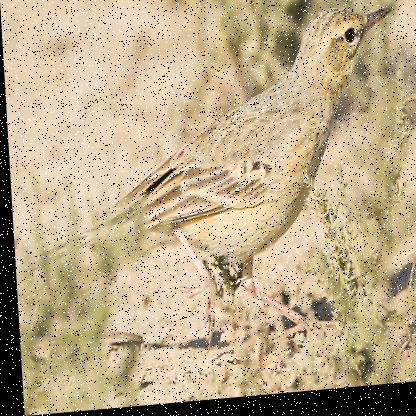Burung: (7, 8, 407, 340)
